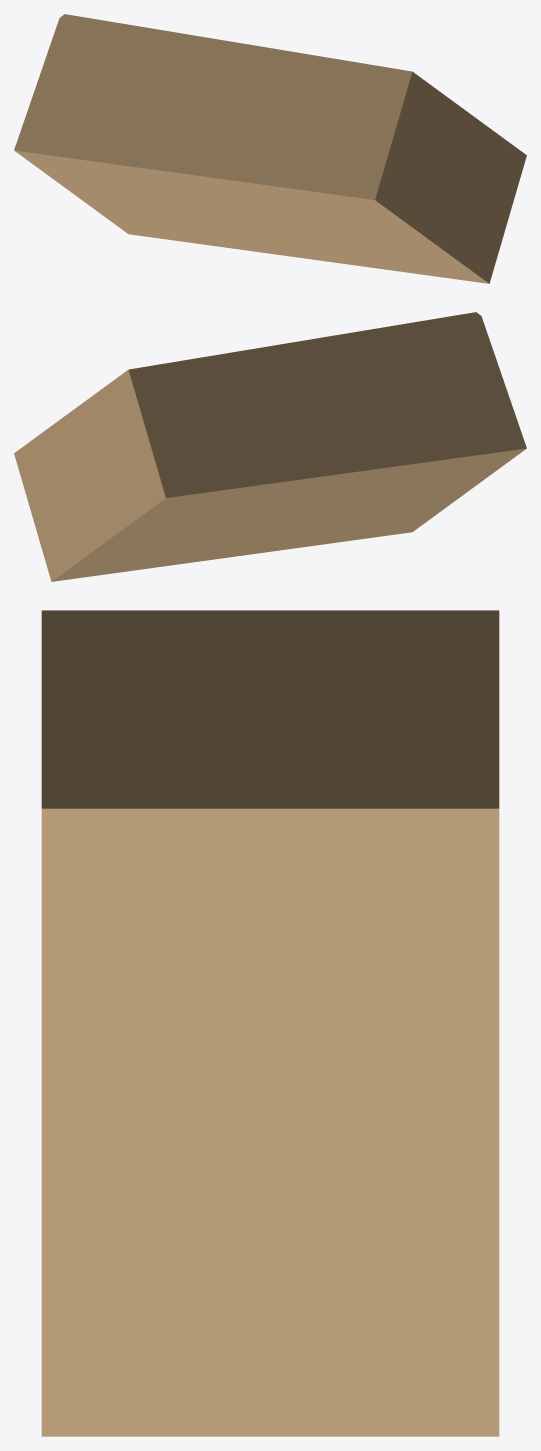
The picture shows the model from 3 angles, top to bottom: view 1: azimuth 30°, elevation 25°; view 2: azimuth 150°, elevation 25°; view 3: azimuth 270°, elevation 25°; orthographic projection. The views are drawn at different scales.
Visible parts, largest first — view 1: 0_0_3_1_2_1_3_0; view 2: 0_0_3_1_2_1_3_0; view 3: 0_0_3_1_2_1_3_0.
Part boxes in pixels (x1=…): 0_0_3_1_2_1_3_0: x1=14, y1=14, x2=526, y2=283; 0_0_3_1_2_1_3_0: x1=14, y1=312, x2=526, y2=581; 0_0_3_1_2_1_3_0: x1=41, y1=610, x2=499, y2=1436.
Bounding box in the file's own units: 54.26 × 34.06 × 27.
